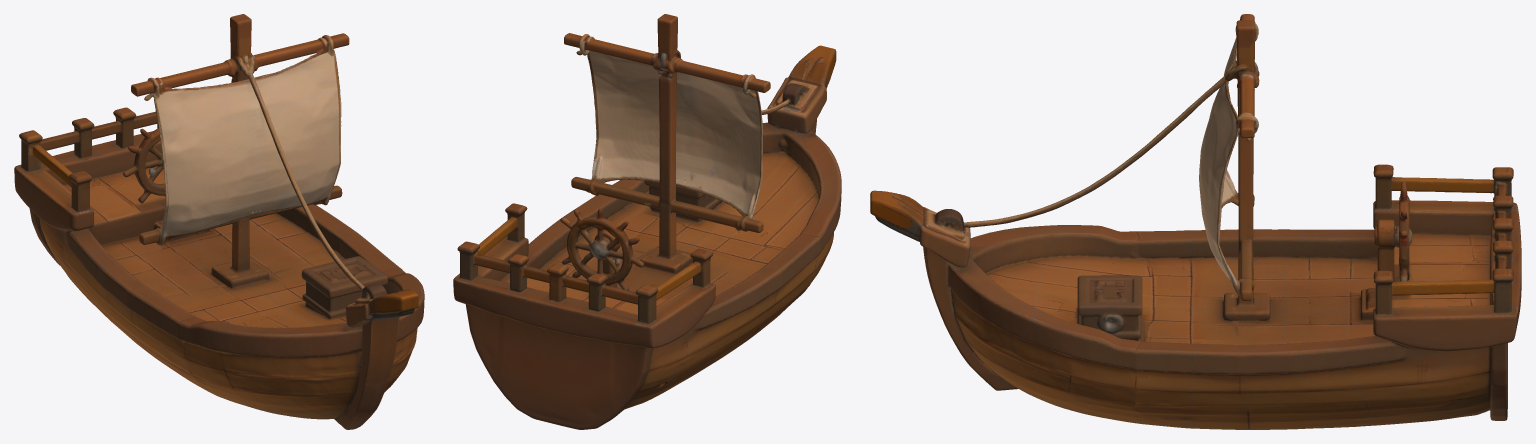
Rendered from Barco.glb.
3 renders of one model, left to right at view 1: azimuth 30°, elevation 25°; view 2: azimuth 150°, elevation 25°; view 3: azimuth 270°, elevation 25°, orthographic. The views are drawn at different scales.
Visible parts, largest first — view 1: tripo_node_62dc564c-5340-4d96-8419-12e30be7e193; view 2: tripo_node_62dc564c-5340-4d96-8419-12e30be7e193; view 3: tripo_node_62dc564c-5340-4d96-8419-12e30be7e193.
Boxes of the visible parts, bbox=[...] form: tripo_node_62dc564c-5340-4d96-8419-12e30be7e193: bbox=[14, 14, 424, 429]; tripo_node_62dc564c-5340-4d96-8419-12e30be7e193: bbox=[453, 14, 841, 429]; tripo_node_62dc564c-5340-4d96-8419-12e30be7e193: bbox=[870, 14, 1521, 429].
Bounding box in the file's own units: 0.4572 × 0.6626 × 1.
Materials: 1 (1 with a texture image).
